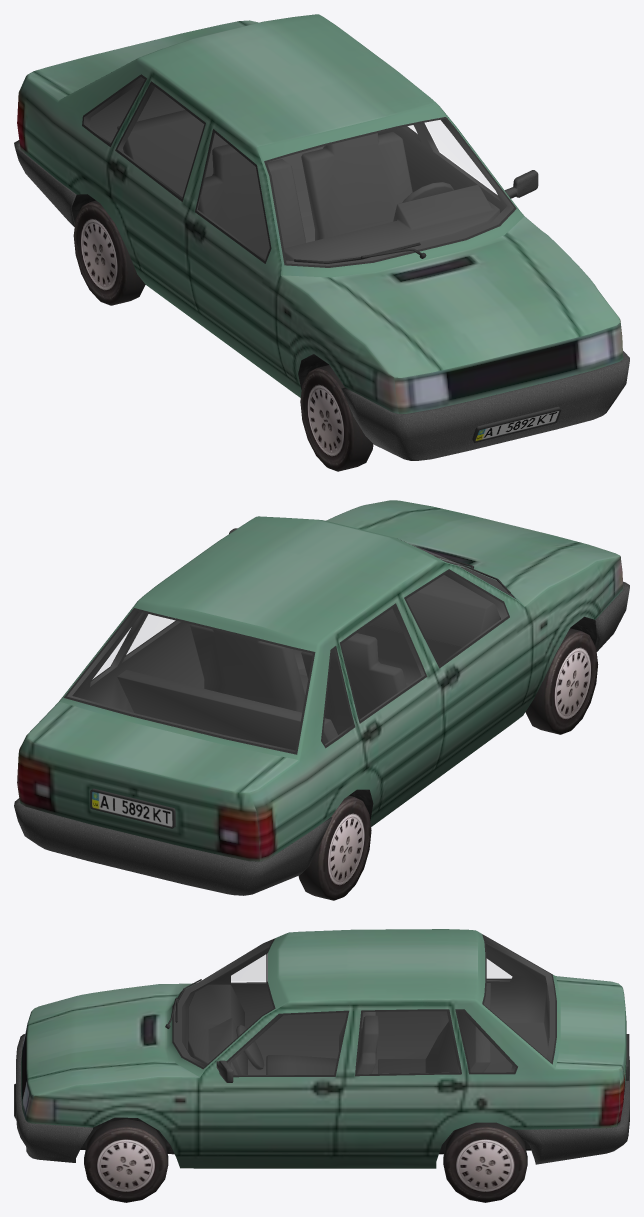
Rendered from fiat_duna.glb.
The picture shows the model from 3 angles, top to bottom: view 1: azimuth 30°, elevation 25°; view 2: azimuth 150°, elevation 25°; view 3: azimuth 270°, elevation 25°; orthographic projection. The views are drawn at different scales.
Parts seen in each view (by area): view 1: body, interior, windows, Cylinder.001, Cylinder.003, front_license_plate, bottom; view 2: body, interior, windows, Cylinder.001, Cylinder.003, rear_license_plate, bottom; view 3: body, interior, Cylinder, Cylinder.002, windows, bottom.
Boxes of the visible parts, x1,y1,x2,y2 form: body: (14, 14, 629, 460); interior: (83, 77, 513, 265); windows: (82, 72, 516, 267); Cylinder.001: (300, 365, 373, 471); Cylinder.003: (73, 200, 145, 305); front_license_plate: (472, 406, 561, 442); bottom: (71, 194, 379, 447); body: (14, 500, 629, 895); interior: (67, 566, 513, 751); windows: (63, 540, 515, 754); Cylinder.001: (525, 628, 598, 734); Cylinder.003: (298, 795, 371, 900); rear_license_plate: (90, 788, 175, 828); bottom: (255, 616, 596, 861); body: (16, 929, 629, 1168); interior: (173, 936, 555, 1077); Cylinder: (84, 1119, 168, 1202); Cylinder.002: (443, 1122, 527, 1202); windows: (172, 934, 556, 1077); bottom: (80, 1117, 606, 1154).
Size of the model in its own units: 3.43 by 2.88 by 8.18.
12 materials, 6 textured.
